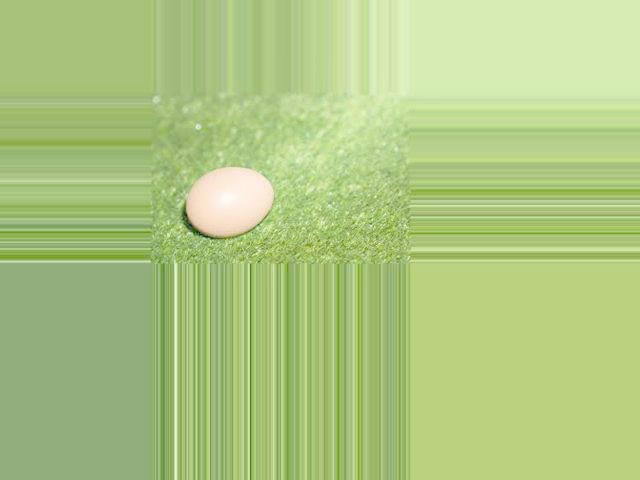egg: (185, 168, 275, 238)
